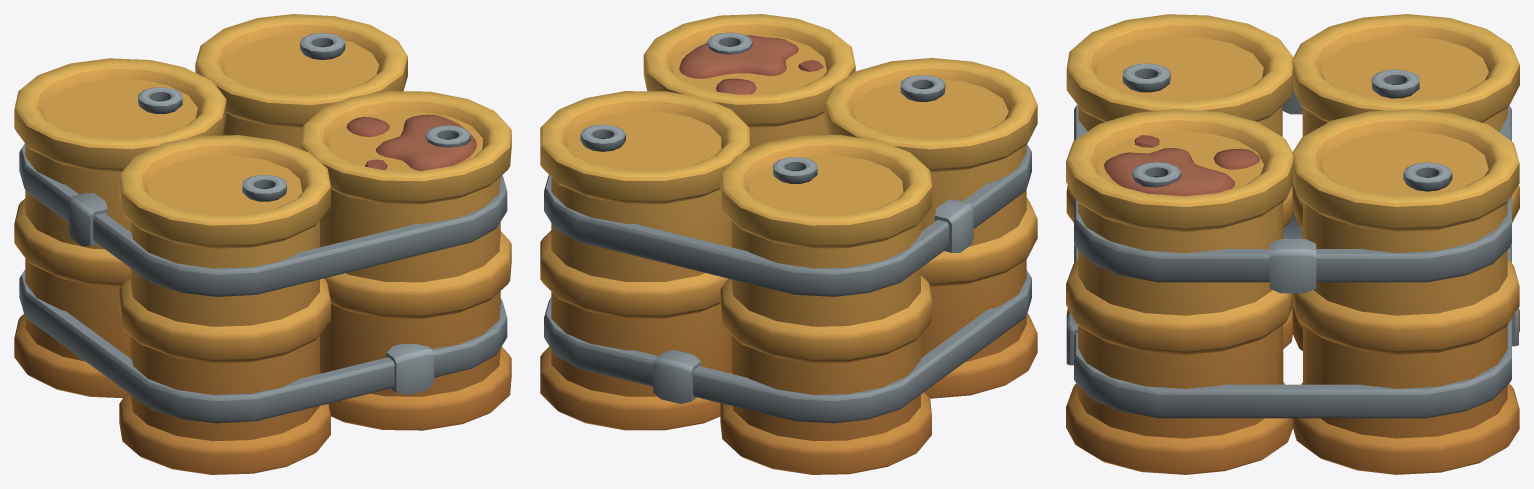
File: fuel_b_barrels.glb
3 views of the same model, side by side, from view 1: azimuth 30°, elevation 25°; view 2: azimuth 150°, elevation 25°; view 3: azimuth 270°, elevation 25° (orthographic). The views are drawn at different scales.
Parts seen in each view (by area): view 1: Fuel_B_Barrels; view 2: Fuel_B_Barrels; view 3: Fuel_B_Barrels.
Part boxes in pixels (<box>): Fuel_B_Barrels: <box>14,14,511,474</box>; Fuel_B_Barrels: <box>540,14,1037,474</box>; Fuel_B_Barrels: <box>1066,14,1519,474</box>.
Bounding box in the file's own units: 0.9087 × 0.6045 × 0.9087.
1 material, 1 textured.
